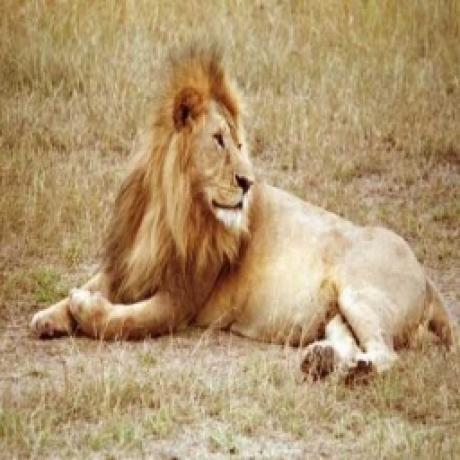Lion: (26, 45, 454, 397)
